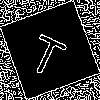T: (25, 25, 72, 79)
